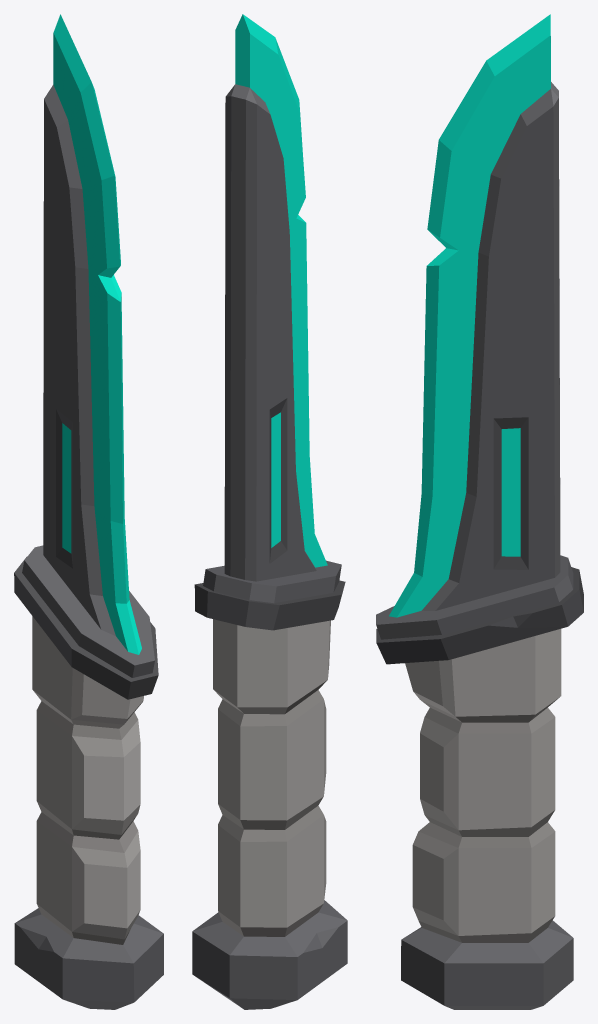
File: SM_Wep_Dagger_01.fbx
The picture shows the model from 3 angles, left to right: view 1: azimuth 30°, elevation 25°; view 2: azimuth 150°, elevation 25°; view 3: azimuth 270°, elevation 25°; orthographic projection. The views are drawn at different scales.
Visible parts, largest first — view 1: SM_Wep_Dagger_01; view 2: SM_Wep_Dagger_01; view 3: SM_Wep_Dagger_01.
Boxes of the visible parts, x1=… form: SM_Wep_Dagger_01: x1=14, y1=14, x2=163, y2=1009; SM_Wep_Dagger_01: x1=192, y1=14, x2=347, y2=1009; SM_Wep_Dagger_01: x1=376, y1=14, x2=583, y2=1009.
Size of the model in its own units: 5.55 by 50.16 by 9.57.
